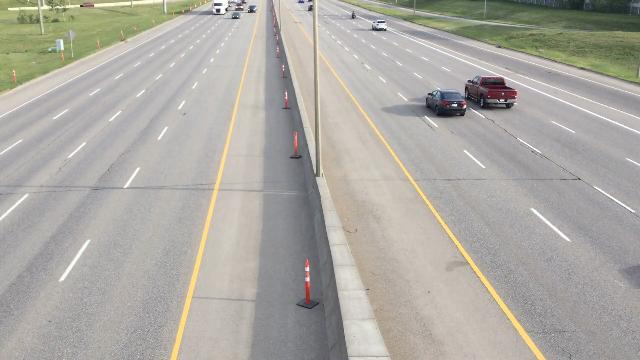car: (424, 89, 466, 117), (371, 18, 388, 33), (230, 10, 240, 20), (248, 3, 256, 13), (237, 3, 244, 11)
motorcycle: (350, 10, 357, 20)
pickup-truck: (466, 73, 519, 109)
truck: (208, 0, 228, 15)
